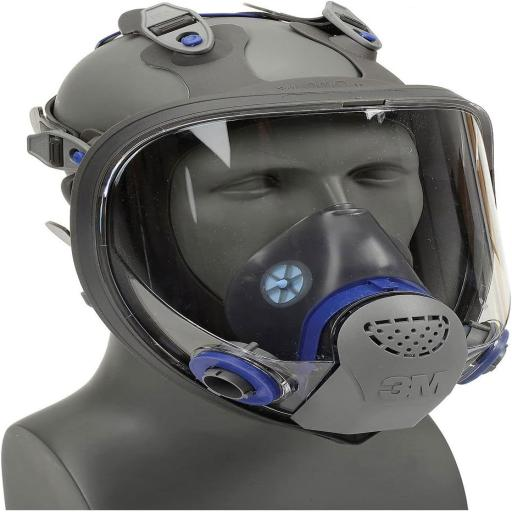mask: (18, 91, 512, 431)
